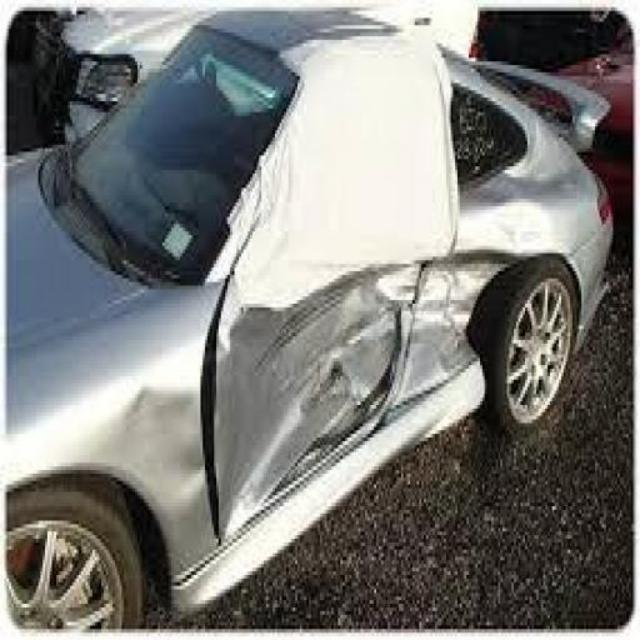dent: (125, 39, 525, 553)
